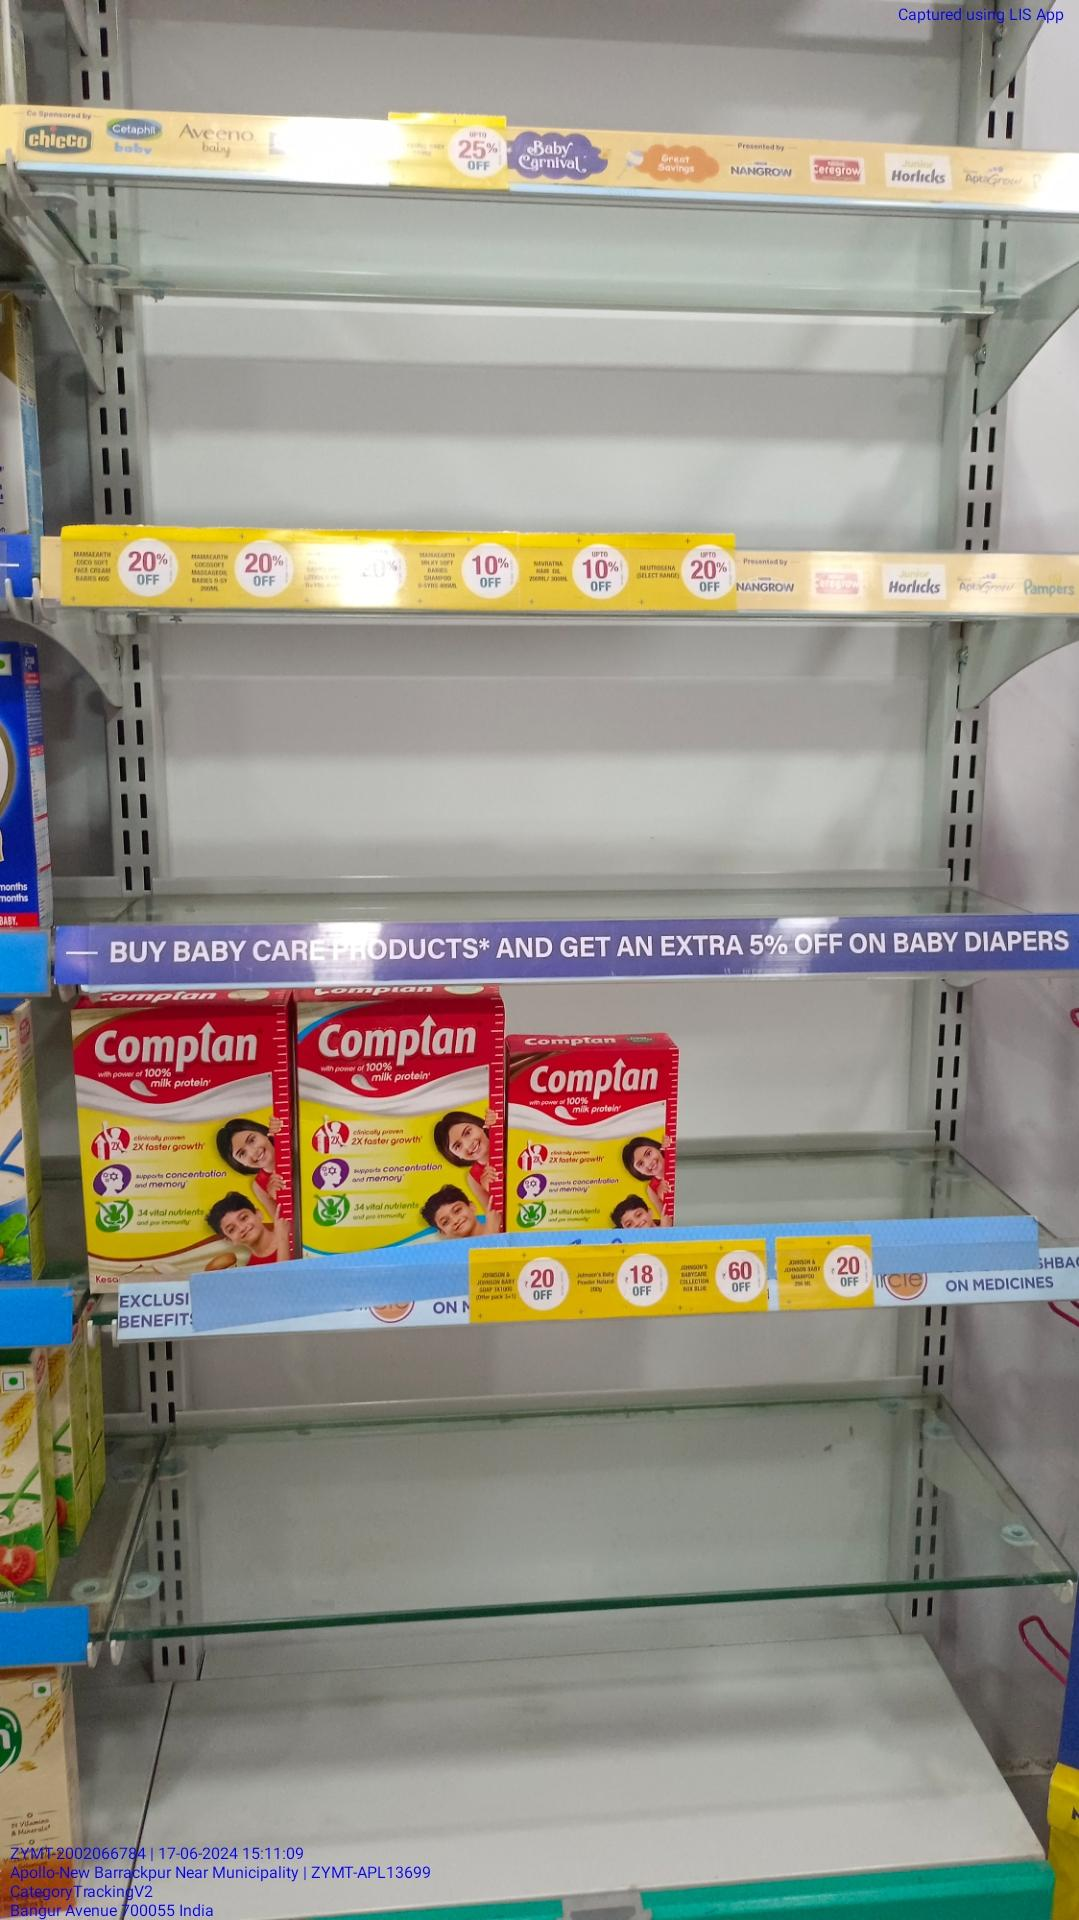COMPLAN_CHOCOLATE_200_GMS_PACK: (512, 1050, 678, 1233)
COMPLAN_CREAMY_CLASSIC_500_G_PACK: (299, 1001, 504, 1233)
COMPLAN_KESAR_BADAM_500_GMS_PACK: (79, 1011, 289, 1257)
